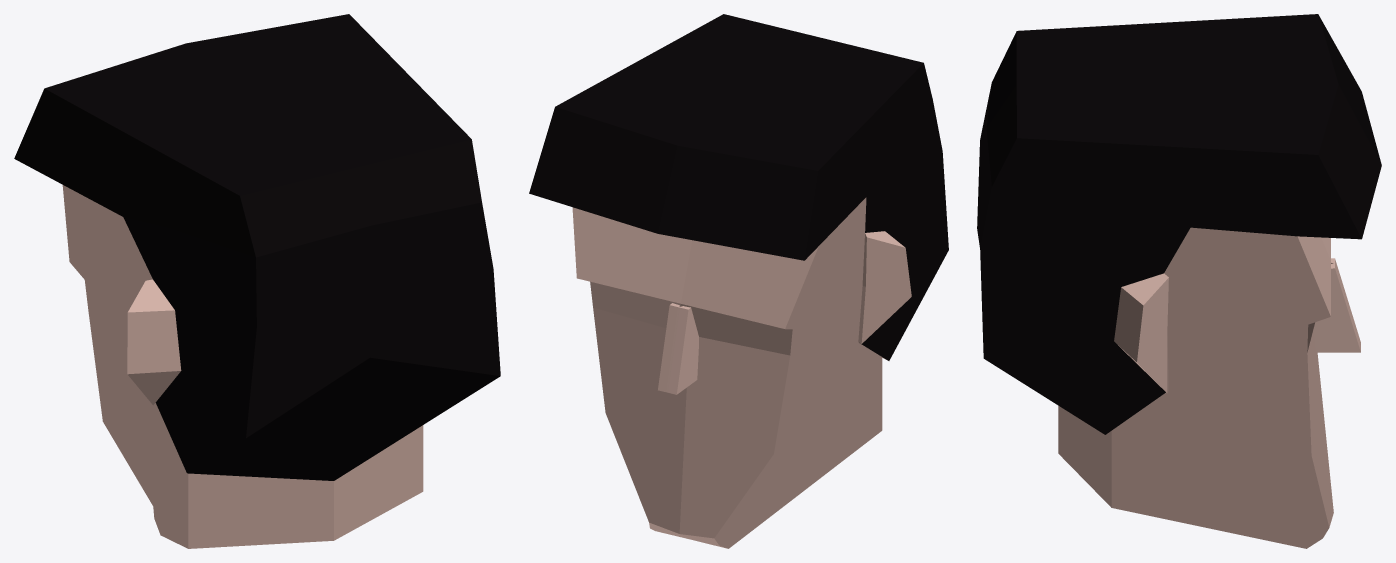
The model's file is head.gltf.
The picture shows the model from 3 angles, left to right: view 1: azimuth 30°, elevation 25°; view 2: azimuth 150°, elevation 25°; view 3: azimuth 270°, elevation 25°; orthographic projection. The views are drawn at different scales.
Visible parts, largest first — view 1: Cube.001; view 2: Cube.001; view 3: Cube.001.
Boxes of the visible parts, left/top/right/bottom form: Cube.001: left=14, top=14, right=500, bottom=548; Cube.001: left=529, top=14, right=948, bottom=548; Cube.001: left=977, top=14, right=1381, bottom=548.
Size of the model in its own units: 0.1448 by 0.1967 by 0.1621.
